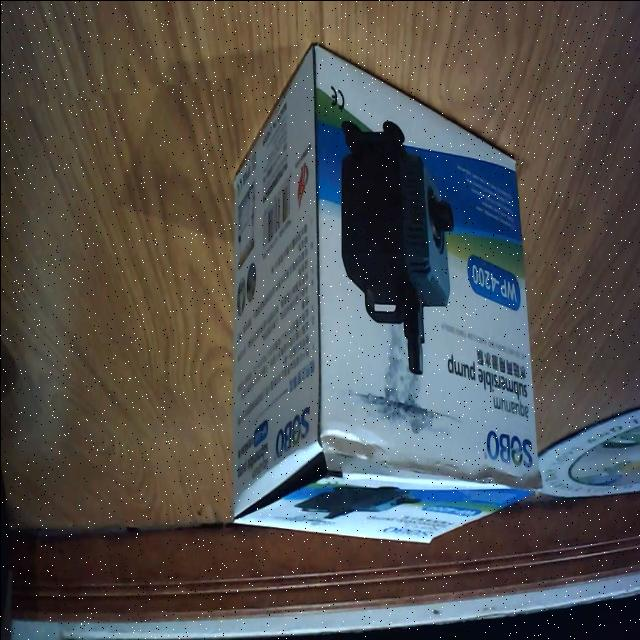SOBO_WP_4200: (229, 41, 543, 548)
